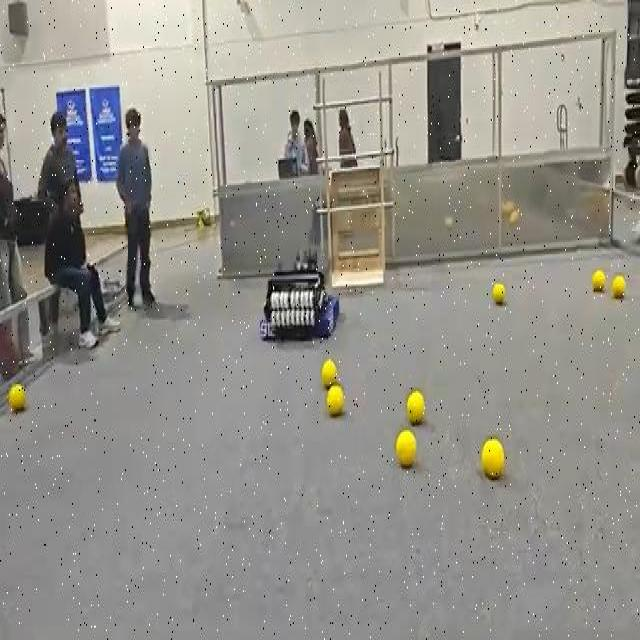Fuel: (481, 438, 505, 478), (481, 438, 504, 478), (395, 428, 416, 466), (406, 389, 425, 425), (326, 384, 344, 416), (326, 384, 343, 416), (7, 384, 25, 411), (8, 383, 25, 411), (321, 359, 337, 388), (492, 282, 506, 306), (612, 275, 626, 299), (611, 276, 626, 298), (492, 282, 506, 305), (592, 270, 606, 292), (592, 270, 605, 292)
